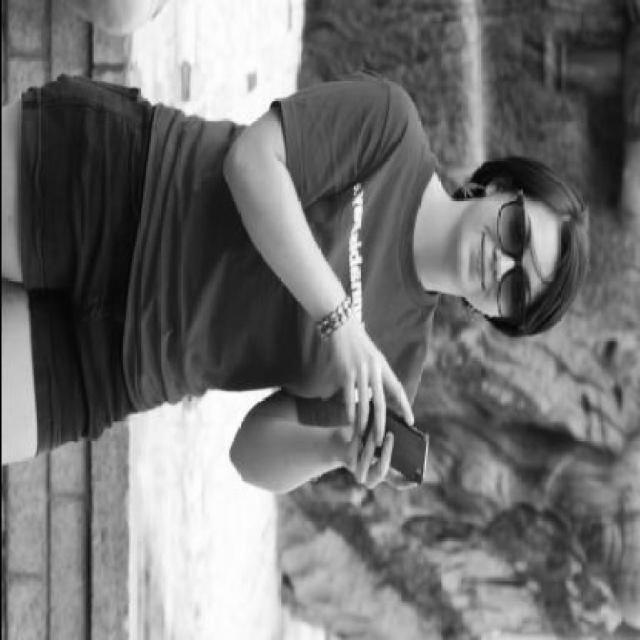fake: (357, 400, 428, 488)
